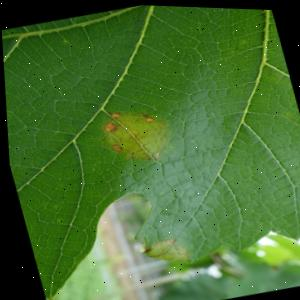Folha: (0, 0, 300, 300)
Fungo: (90, 96, 178, 170), (133, 230, 189, 266), (132, 238, 149, 252), (101, 118, 116, 131), (140, 110, 154, 121), (108, 140, 122, 150), (108, 109, 120, 115), (143, 114, 153, 120), (140, 111, 149, 116)
